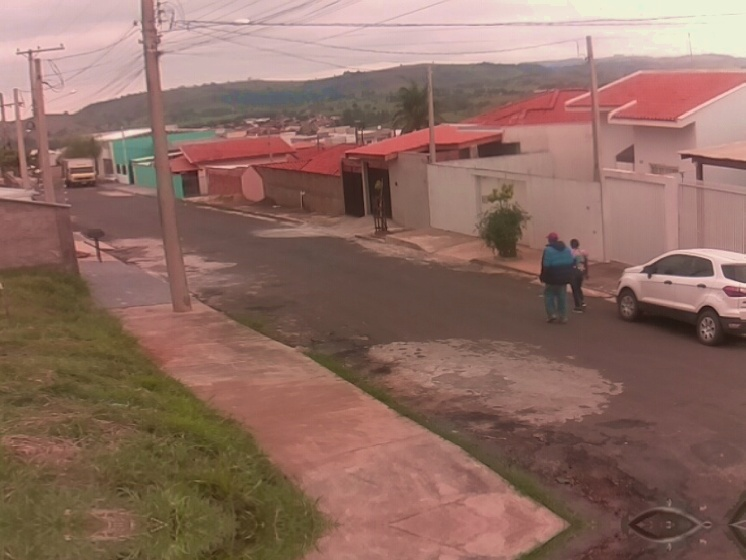person: (538, 233, 573, 323), (565, 237, 592, 314)
